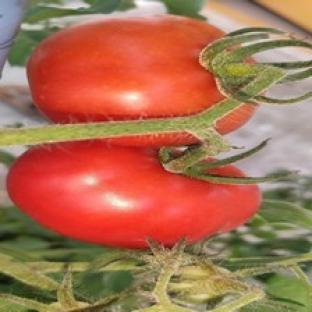Tomato: (7, 141, 261, 247), (27, 16, 224, 122)
